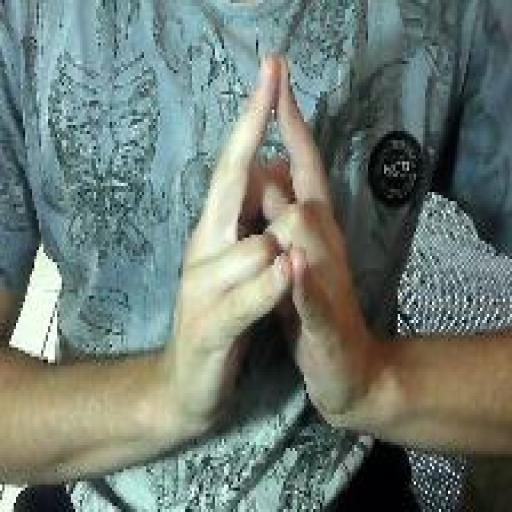Tori -bird-: (163, 50, 376, 440)
